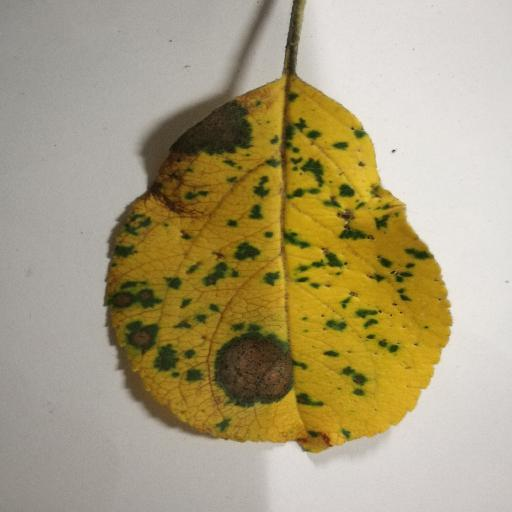Brown_Spot: (210, 333, 299, 406), (139, 166, 195, 218), (106, 289, 154, 305), (131, 328, 155, 353)
